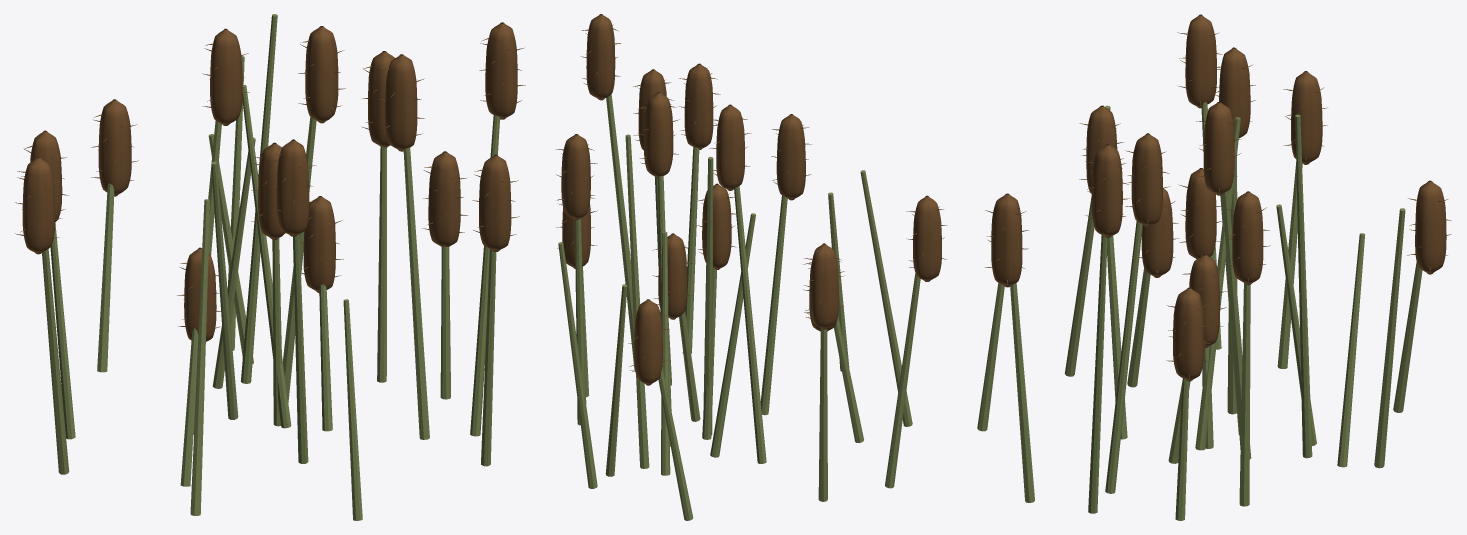
The model's file is detail_reeds.glb.
The picture shows the model from 3 angles, left to right: view 1: azimuth 30°, elevation 25°; view 2: azimuth 150°, elevation 25°; view 3: azimuth 270°, elevation 25°; orthographic projection. The views are drawn at different scales.
Visible parts, largest first — view 1: DenseReedSeedHead8, DenseReedSeedHead13, Cone.117, DenseReedSeedHead20, DenseReedSeedHead5, DenseReedSeedHead11, DenseReedSeedHead2, DenseReedSeedHead10, DenseReedSeedHead16, DenseReedSeedHead7, Cone.020, DenseReedSeedHead19 (+24 smaller); view 2: Cone.254, DenseReedSeedHead4, DenseReedSeedHead8, DenseReedSeedHead13, DenseReedSeedHead10, DenseReedSeedHead11, DenseReedSeedHead5, DenseReedSeedHead14, DenseReedSeedHead7, DenseReedSeedHead20, Cone.078, Cone (+21 smaller); view 3: Cone.078, DenseReedSeedHead2, DenseReedSeedHead16, DenseReedSeedHead10, DenseReedSeedHead11, DenseReedSeedHead7, DenseReedSeedHead4, DenseReedSeedHead8, DenseReedSeedHead5, Cone.020, Cone.137, DenseReedSeedHead17 (+20 smaller).
Boxes of the visible parts, x1=… form: DenseReedSeedHead8: x1=305, y1=26, x2=338, y2=123; DenseReedSeedHead13: x1=276, y1=139, x2=309, y2=236; Cone.117: x1=190, y1=199, x2=209, y2=515; DenseReedSeedHead20: x1=210, y1=28, x2=242, y2=125; DenseReedSeedHead5: x1=22, y1=157, x2=55, y2=254; DenseReedSeedHead11: x1=485, y1=22, x2=517, y2=119; DenseReedSeedHead2: x1=385, y1=54, x2=417, y2=151; DenseReedSeedHead10: x1=479, y1=154, x2=511, y2=251; DenseReedSeedHead16: x1=428, y1=151, x2=460, y2=246; DenseReedSeedHead7: x1=98, y1=99, x2=131, y2=196; Cone.020: x1=403, y1=147, x2=429, y2=439; DenseReedSeedHead19: x1=303, y1=196, x2=335, y2=292; Cone.254: x1=734, y1=186, x2=766, y2=463; DenseReedSeedHead4: x1=561, y1=134, x2=590, y2=220; DenseReedSeedHead8: x1=644, y1=92, x2=673, y2=178; DenseReedSeedHead13: x1=776, y1=114, x2=805, y2=200; DenseReedSeedHead10: x1=684, y1=63, x2=713, y2=149; DenseReedSeedHead11: x1=586, y1=14, x2=615, y2=100; DenseReedSeedHead5: x1=913, y1=195, x2=941, y2=281; DenseReedSeedHead14: x1=810, y1=243, x2=838, y2=329; DenseReedSeedHead7: x1=634, y1=299, x2=662, y2=385; DenseReedSeedHead20: x1=716, y1=104, x2=744, y2=190; Cone.078: x1=625, y1=134, x2=649, y2=468; Cone: x1=558, y1=242, x2=597, y2=488; Cone.078: x1=1295, y1=114, x2=1312, y2=458; DenseReedSeedHead2: x1=1131, y1=133, x2=1162, y2=227; DenseReedSeedHead16: x1=1173, y1=287, x2=1204, y2=381; DenseReedSeedHead10: x1=991, y1=193, x2=1022, y2=287; DenseReedSeedHead11: x1=1091, y1=144, x2=1122, y2=237; DenseReedSeedHead7: x1=1415, y1=180, x2=1446, y2=274; DenseReedSeedHead4: x1=1232, y1=191, x2=1263, y2=285; DenseReedSeedHead8: x1=1203, y1=102, x2=1234, y2=195; DenseReedSeedHead5: x1=1185, y1=14, x2=1216, y2=108; Cone.020: x1=1105, y1=221, x2=1142, y2=493; Cone.137: x1=1088, y1=235, x2=1107, y2=513; DenseReedSeedHead17: x1=1185, y1=168, x2=1216, y2=258.
Size of the model in its own units: 1.81 by 1.5 by 1.69.
